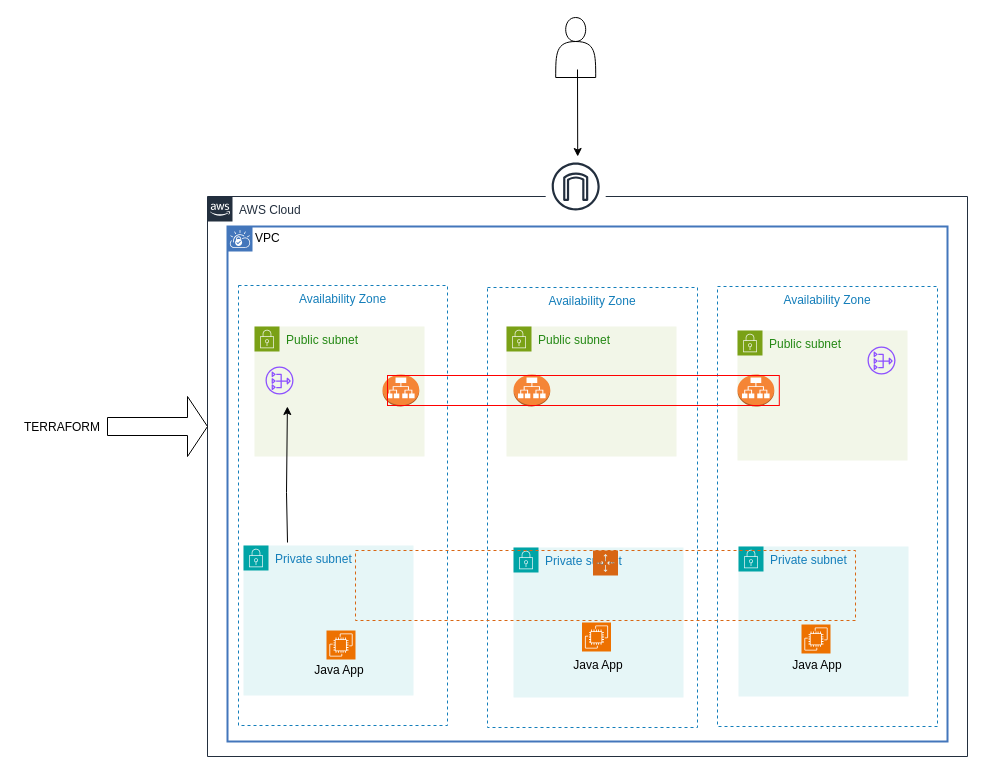
This 985x774 diagram has some shape labels left out. Here are the shapes that lost their labels. From the top down, the centre of each, then its label:
(x=575, y=186): Internet gateway
(x=582, y=390): Application Load Balancer
(x=157, y=426): AWS CLI
(x=605, y=585): Auto Scaling group
